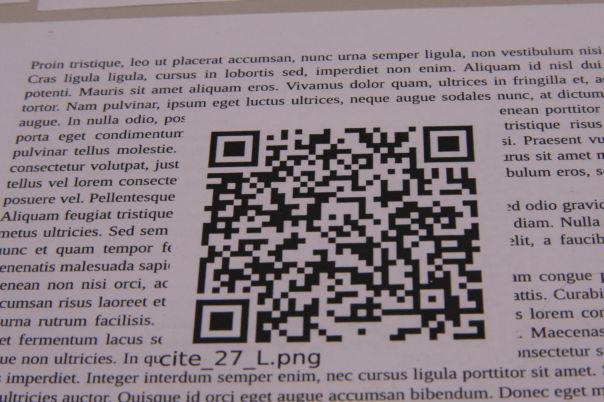Finder pattern: (190, 296, 253, 348), (420, 121, 481, 167), (205, 127, 264, 171)
